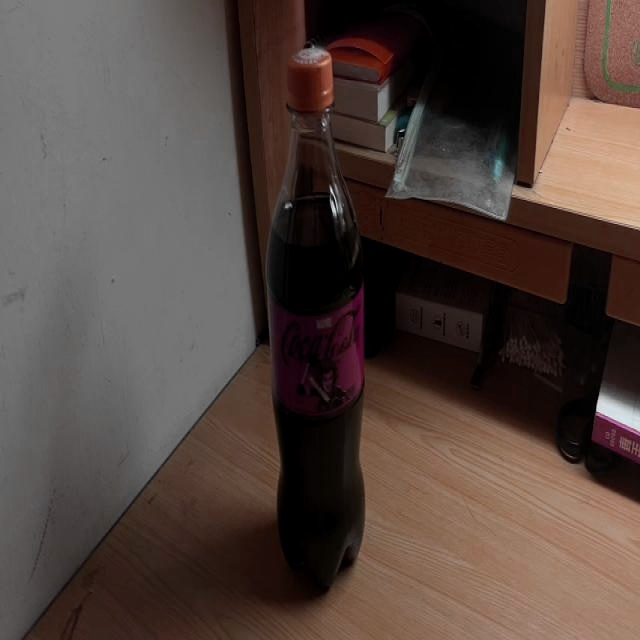Coca-Cola: (269, 48, 365, 596)
